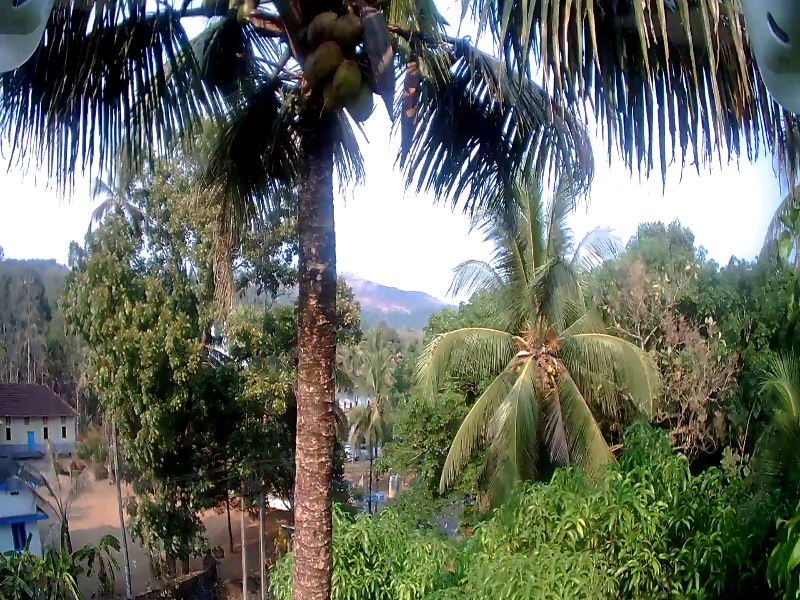coconut: (350, 82, 374, 126), (304, 9, 327, 47), (331, 60, 349, 103), (309, 45, 330, 76), (335, 10, 352, 48)
